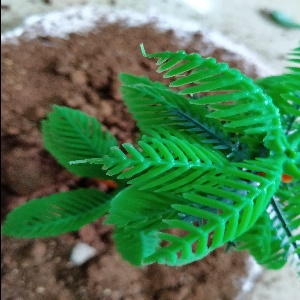plant: (8, 36, 300, 272)
